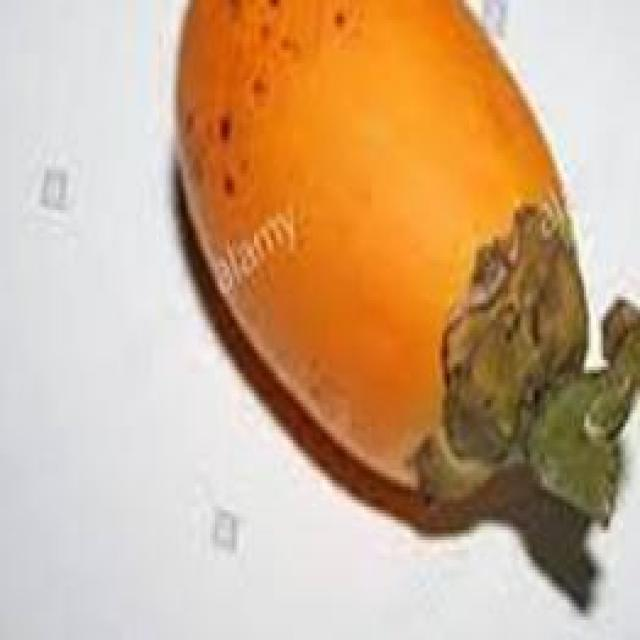good: (173, 0, 638, 540)
